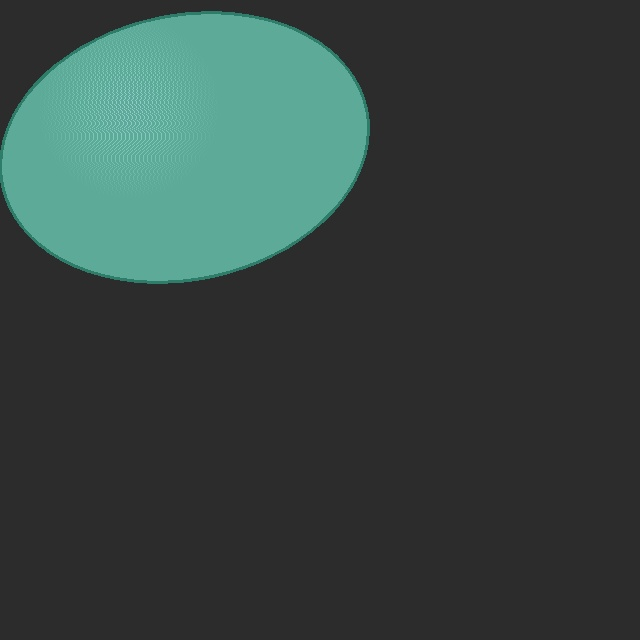lens: (1, 12, 367, 282)
